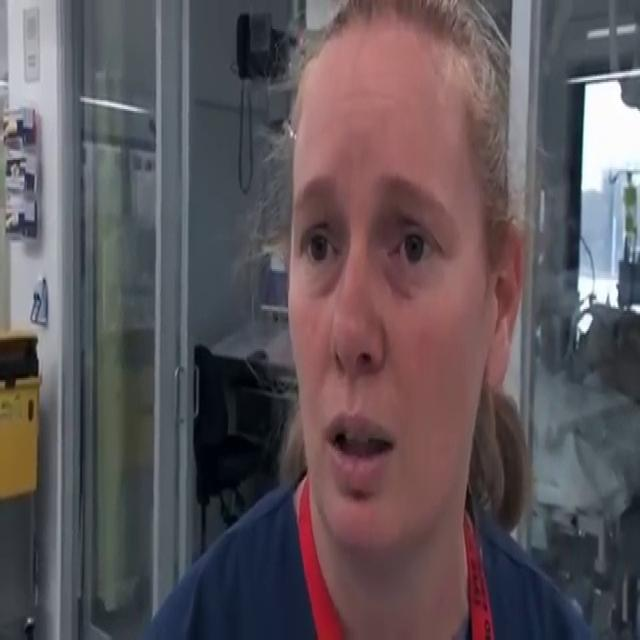nurse: (126, 0, 598, 638)
